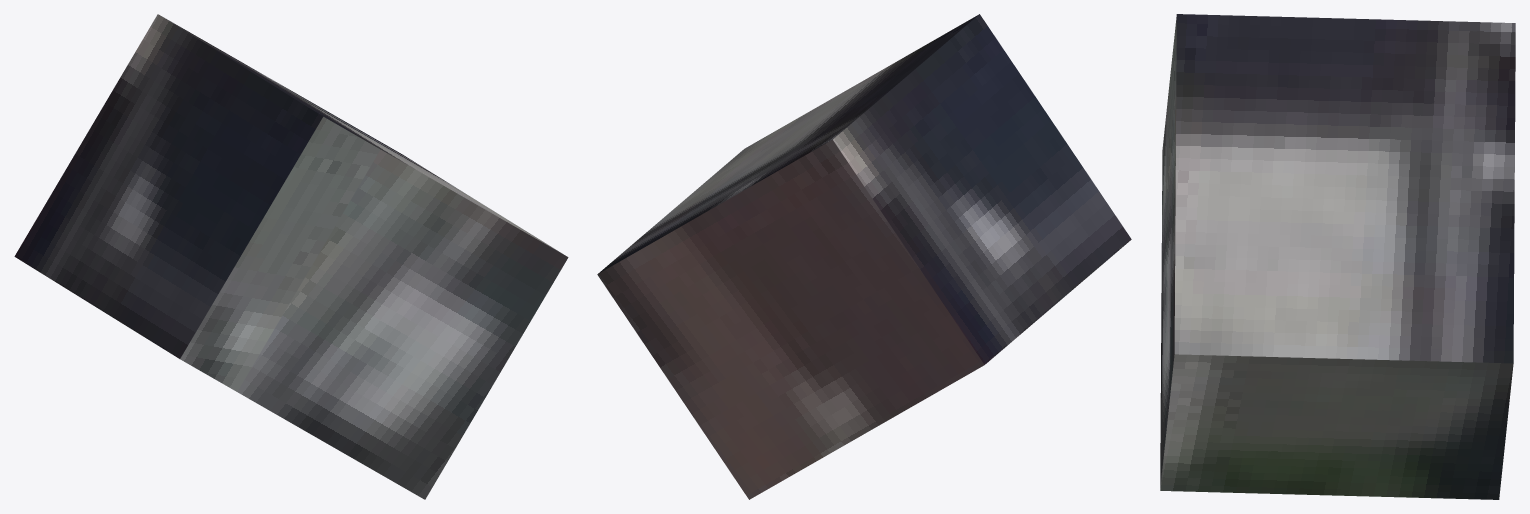
The picture shows the model from 3 angles, left to right: view 1: azimuth 30°, elevation 25°; view 2: azimuth 150°, elevation 25°; view 3: azimuth 270°, elevation 25°; orthographic projection. The views are drawn at different scales.
Visible parts, largest first — view 1: BAG_0599100010047120; view 2: BAG_0599100010047120; view 3: BAG_0599100010047120.
Part boxes in pixels (x1,y1,x2,y2): BAG_0599100010047120: (14, 14, 568, 499); BAG_0599100010047120: (597, 14, 1131, 499); BAG_0599100010047120: (1160, 14, 1515, 499).
Size of the model in its own units: 4.04 by 3.97 by 2.9.
2 materials, 1 textured.
